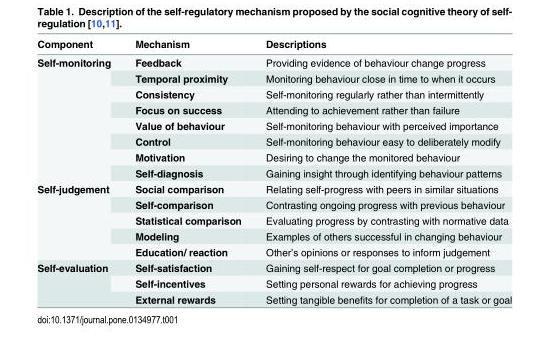table: (36, 37, 511, 304)
table column: (252, 37, 511, 304), (122, 37, 252, 304), (36, 37, 122, 304)
table column header: (36, 37, 511, 52)
table row: (36, 52, 511, 70), (36, 85, 511, 101), (36, 101, 511, 117), (36, 117, 511, 133), (36, 148, 511, 164), (36, 164, 511, 180), (36, 180, 511, 196), (36, 196, 511, 212), (36, 227, 511, 243), (36, 243, 511, 259), (36, 259, 511, 275), (36, 275, 511, 291), (36, 37, 511, 52), (36, 70, 511, 85), (36, 133, 511, 148), (36, 212, 511, 227), (36, 291, 511, 304)
table spanning cell: (36, 52, 122, 180), (36, 180, 122, 259), (36, 259, 122, 304)
